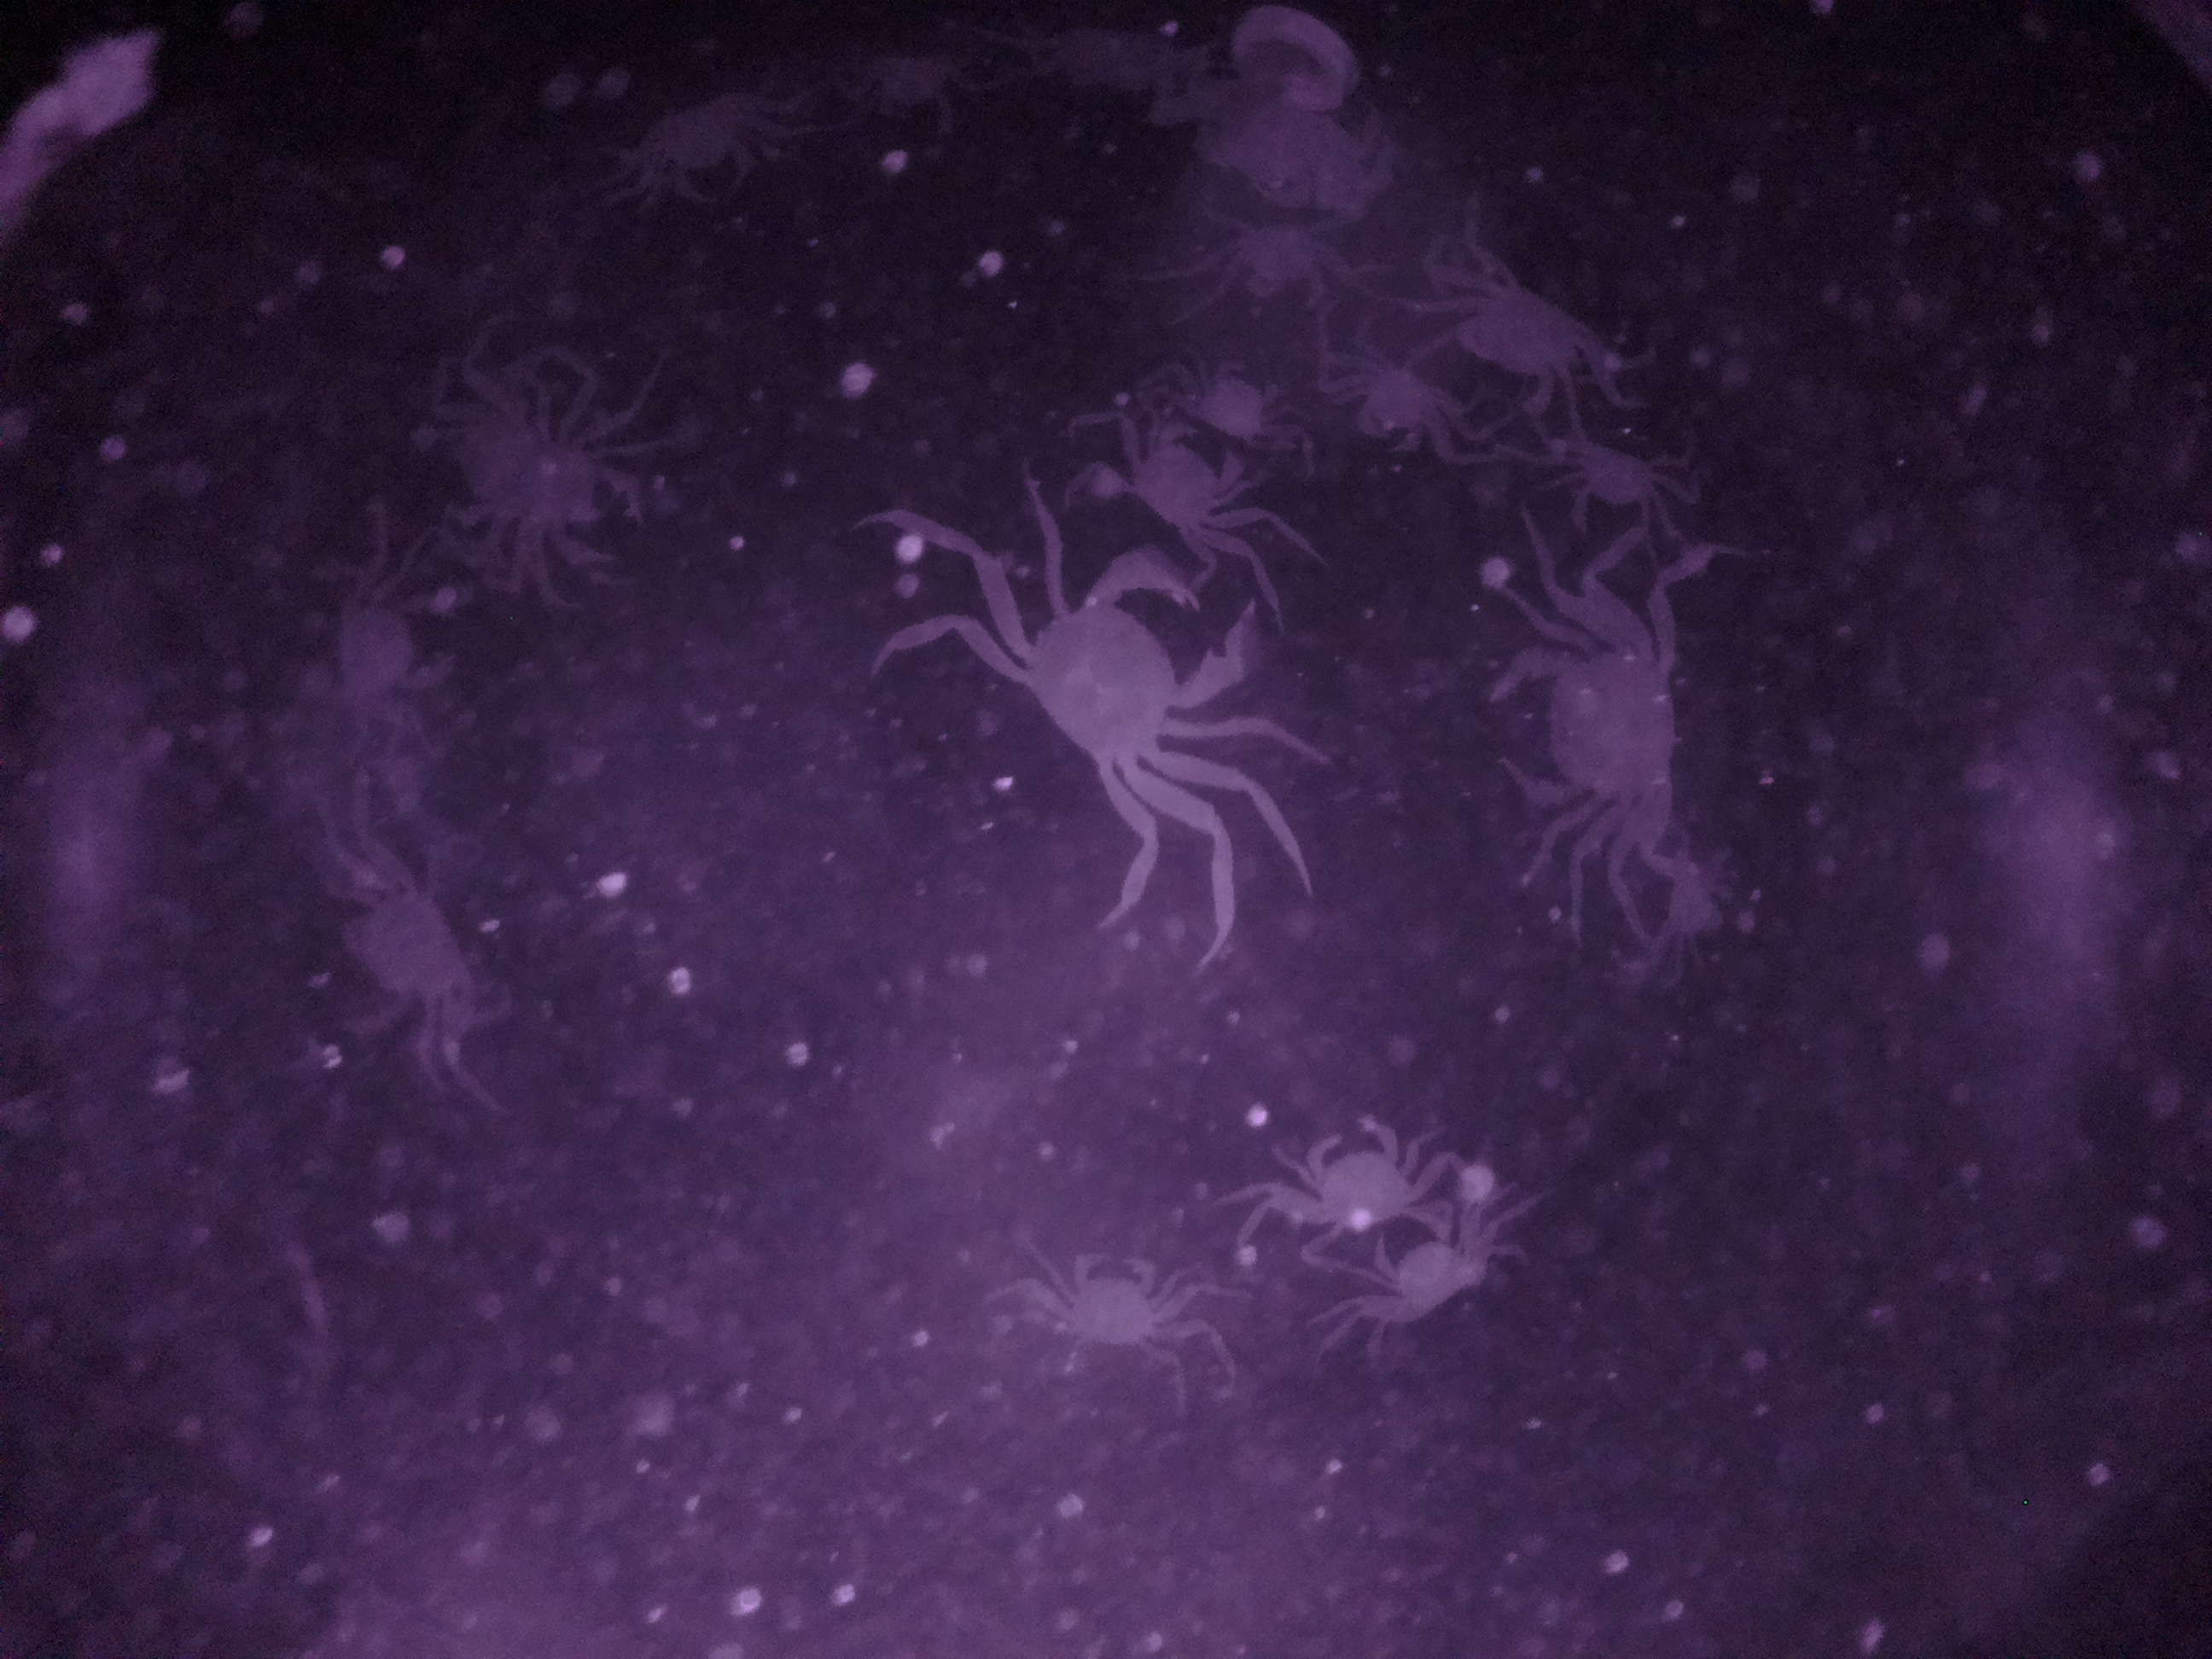Crab: (989, 552, 1270, 807), (1493, 605, 1695, 840), (1435, 263, 1620, 418), (1254, 1110, 1437, 1249), (1099, 410, 1263, 561), (1357, 1204, 1494, 1340), (1327, 354, 1474, 471), (1040, 1248, 1183, 1354), (1540, 441, 1679, 532)
